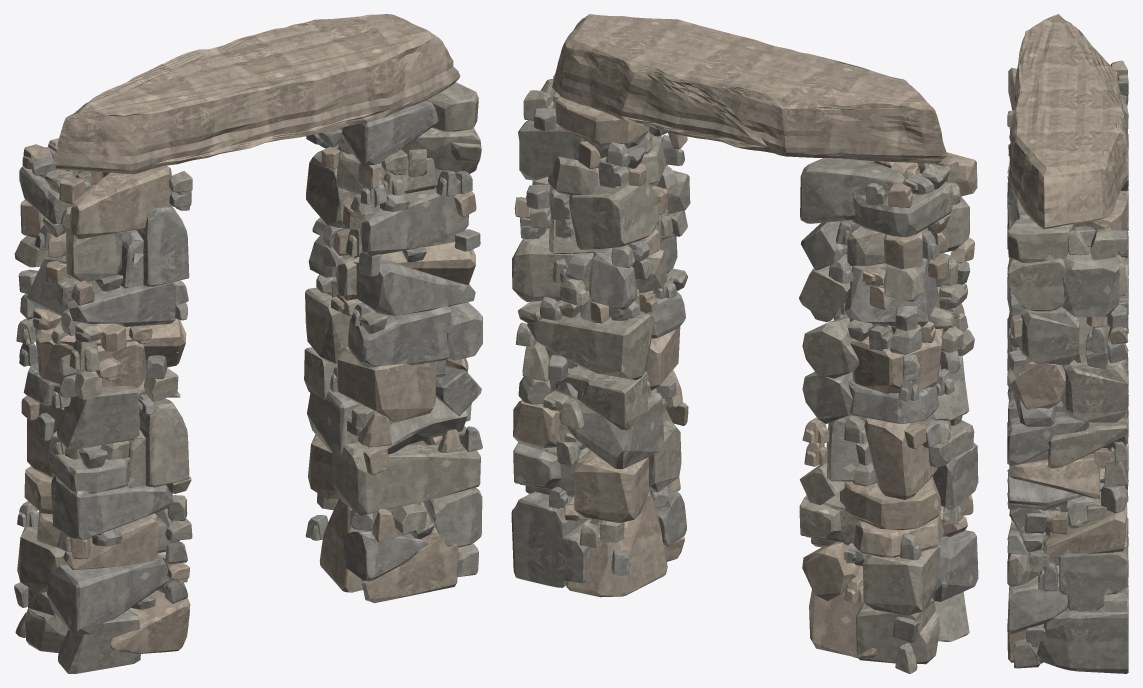
Rendered from door-7x9x2-stone-v1-meshopt.glb.
3 renders of one model, left to right at view 1: azimuth 30°, elevation 25°; view 2: azimuth 150°, elevation 25°; view 3: azimuth 270°, elevation 25°, orthographic. The views are drawn at different scales.
Parts seen in each view (by area): view 1: stone_group_3, stone_group_0, stone_group_2, stone_group_1; view 2: stone_group_3, stone_group_2, stone_group_1, stone_group_0; view 3: stone_group_3, stone_group_1, stone_group_2, stone_group_0.
Boxes of the visible parts, x1,y1,x2,y2 form: stone_group_3: [20, 14, 476, 653]; stone_group_0: [14, 100, 482, 634]; stone_group_2: [14, 82, 481, 653]; stone_group_1: [15, 127, 482, 673]; stone_group_3: [513, 14, 977, 658]; stone_group_2: [512, 74, 974, 664]; stone_group_1: [511, 91, 974, 673]; stone_group_0: [520, 108, 978, 642]; stone_group_3: [1007, 14, 1128, 663]; stone_group_1: [1007, 74, 1128, 673]; stone_group_2: [1007, 110, 1128, 587]; stone_group_0: [1007, 131, 1128, 646].
Bounding box in the file's own units: 1.75 × 2.24 × 0.498.
Materials: 4 (4 with a texture image).
